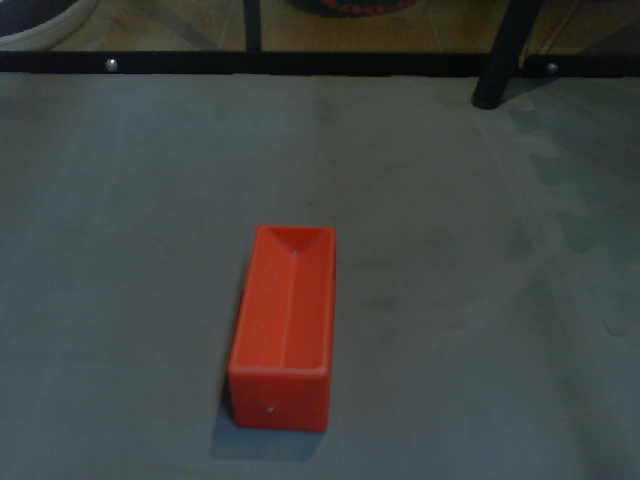RedSample: (224, 222, 338, 435)
